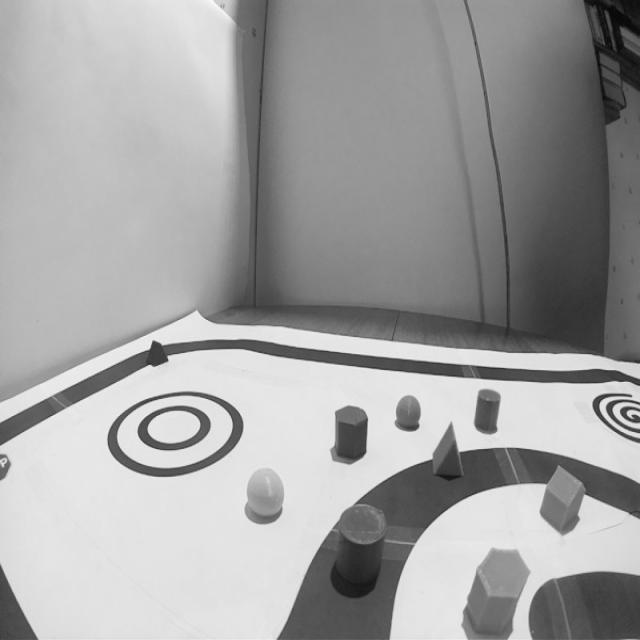ball: (243, 464, 286, 520), (396, 396, 420, 430)
cockade: (106, 390, 245, 476)
cylinder: (336, 504, 388, 584), (474, 389, 502, 433)
hexagon: (464, 547, 530, 636), (334, 406, 367, 460)
home: (540, 465, 587, 533)
laneRightTurn: (271, 442, 470, 640)
nest: (592, 391, 639, 444)
triangle: (431, 422, 465, 479), (146, 340, 168, 367)
